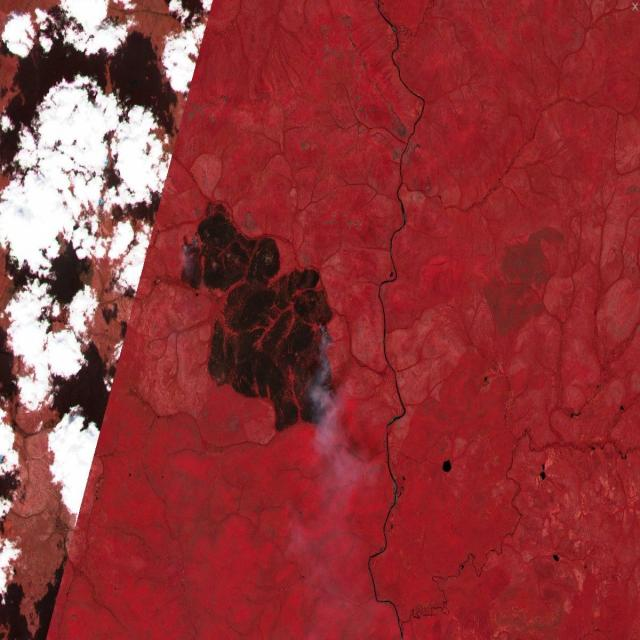fire: (178, 232, 338, 410)
